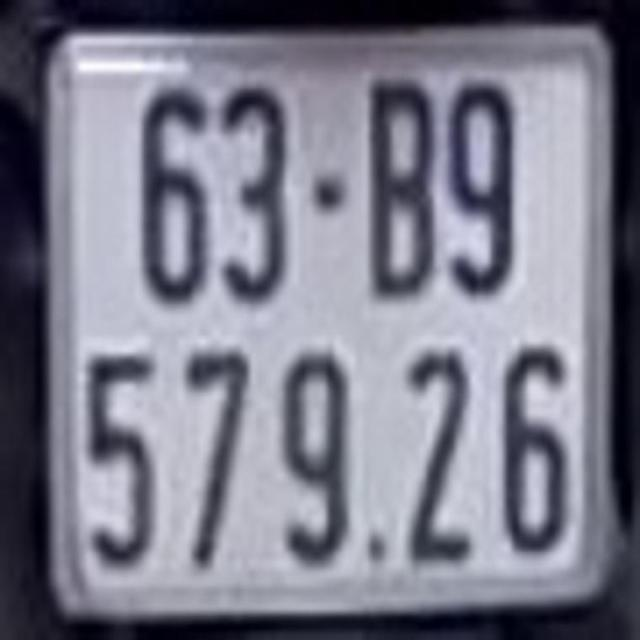2: (403, 346, 475, 563)
3: (219, 82, 288, 302)
5: (84, 349, 160, 568)
6: (139, 83, 210, 303), (500, 342, 571, 556)
7: (183, 347, 250, 568)
9: (444, 71, 521, 299), (279, 346, 349, 566)
B: (360, 72, 440, 303)
